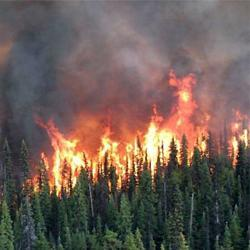fire: (138, 129, 206, 162), (51, 135, 85, 179), (99, 139, 121, 174)
smoke: (32, 18, 157, 81)
